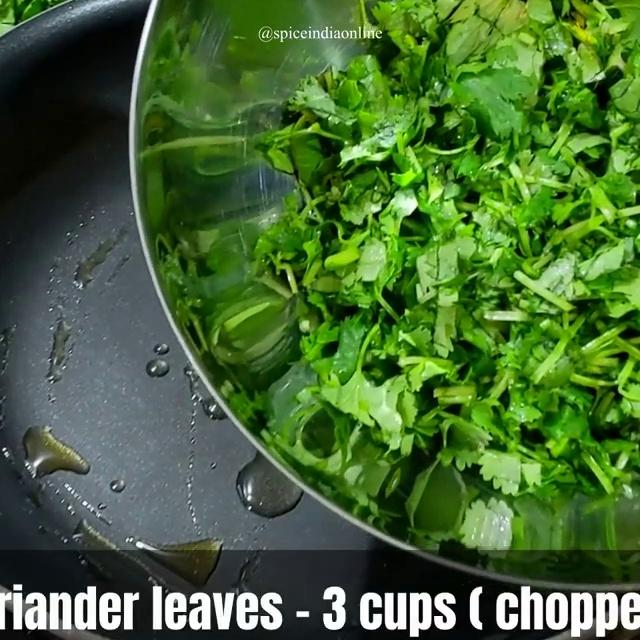cilantro: (363, 0, 640, 453)
